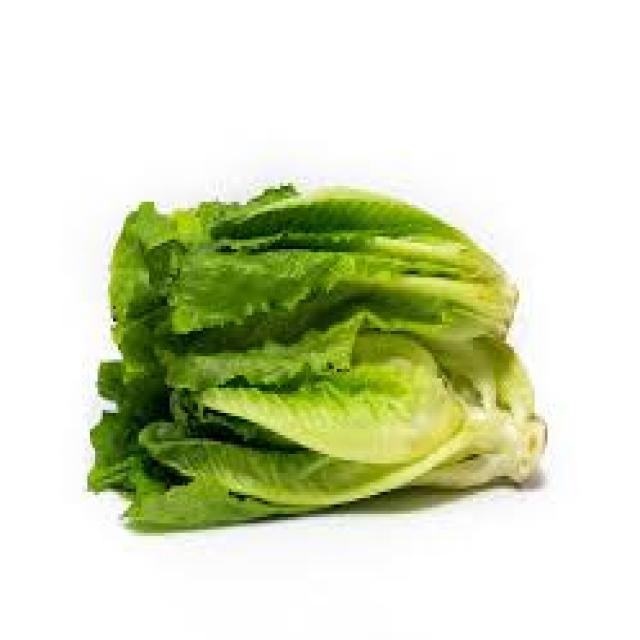Lettuce: (86, 181, 549, 537)
